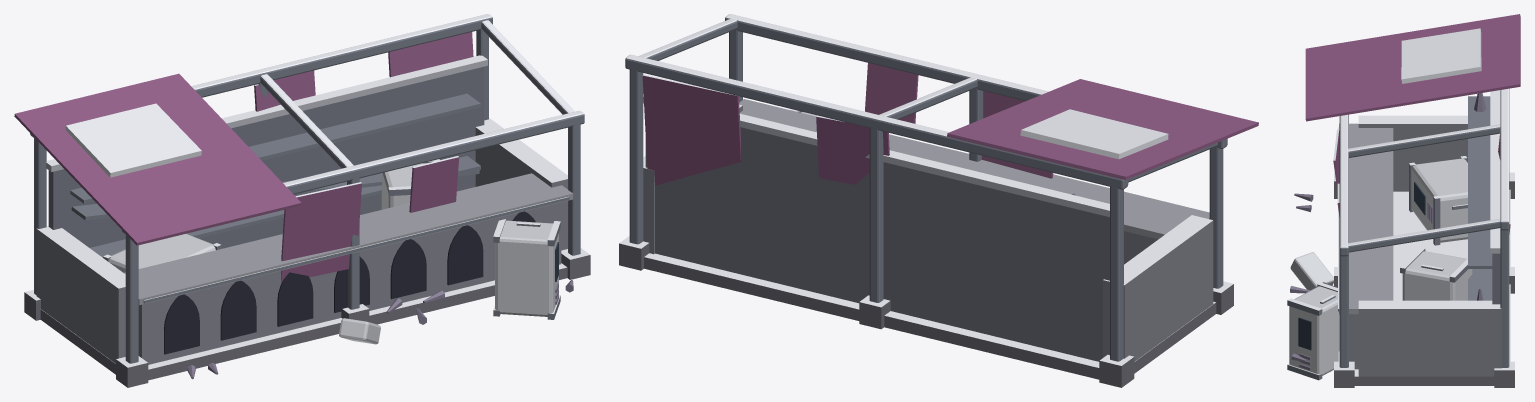
Rendered from PR_Banca_Mercado_B.fbx.
The picture shows the model from 3 angles, left to right: view 1: azimuth 30°, elevation 25°; view 2: azimuth 150°, elevation 25°; view 3: azimuth 270°, elevation 25°; orthographic projection. The views are drawn at different scales.
Parts seen in each view (by area): view 1: PR_Banca_Mercado_B; view 2: PR_Banca_Mercado_B; view 3: PR_Banca_Mercado_B.
Boxes of the visible parts, x1,y1,x2,y2 form: PR_Banca_Mercado_B: (14, 14, 590, 387); PR_Banca_Mercado_B: (619, 14, 1258, 387); PR_Banca_Mercado_B: (1287, 14, 1520, 387).
Size of the model in its own units: 8.28 by 3.52 by 4.07.
